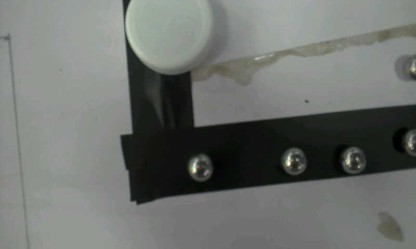ironball: (186, 152, 213, 182), (280, 146, 307, 176), (339, 145, 366, 174), (401, 127, 415, 157), (408, 56, 415, 80)
